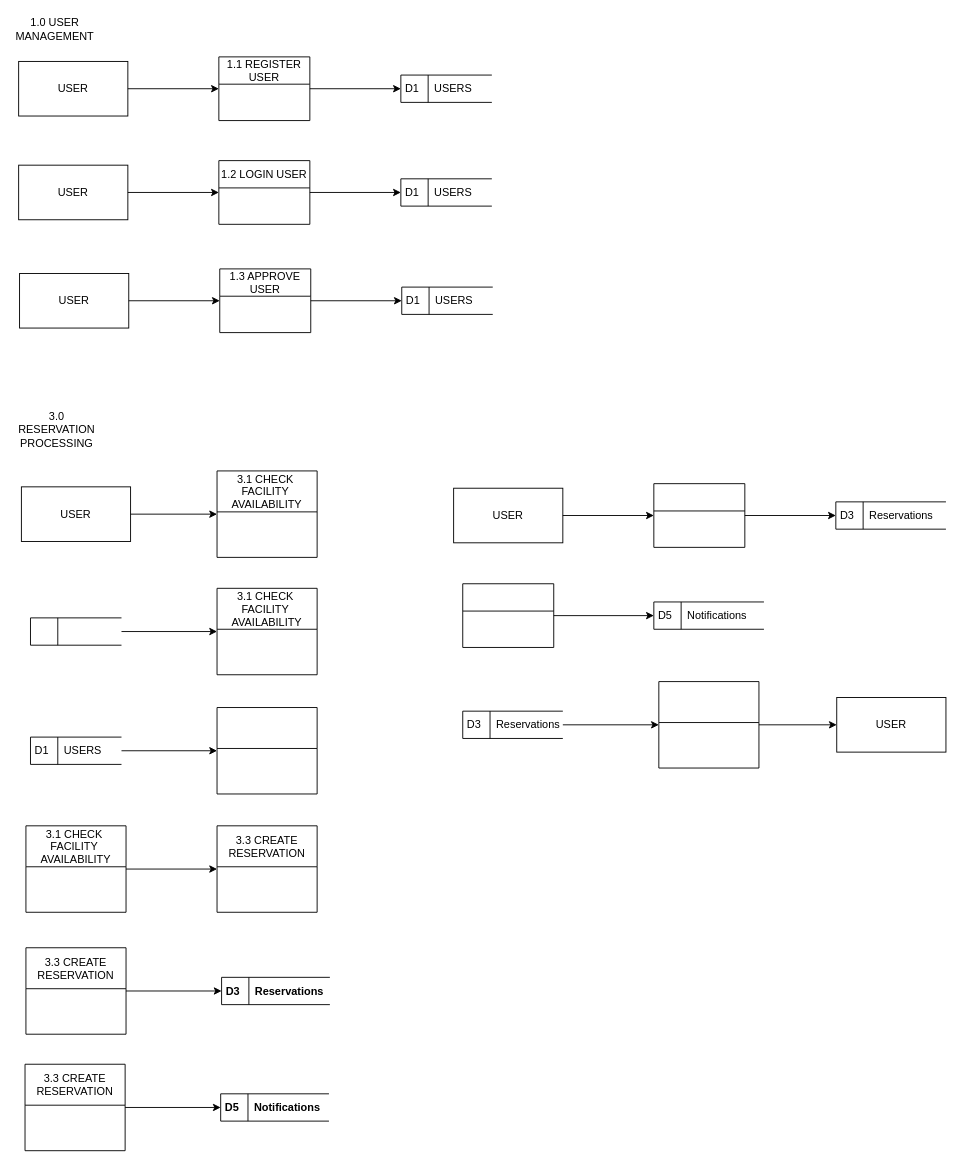
Image size: 962x1167. Some labels were removed from this diagram. Here are the shapes that lost their labels. From the top down, the centre of each, then its label:
point (699, 515): 3.4 UPDATE RESERVATION
point (75, 631): D2 Facilities
point (508, 615): 3.5 CANCEL RESERVATION
point (708, 724): 3.6 VIEW RESERVATION
point (266, 750): 3.2 VALIDATE USER
